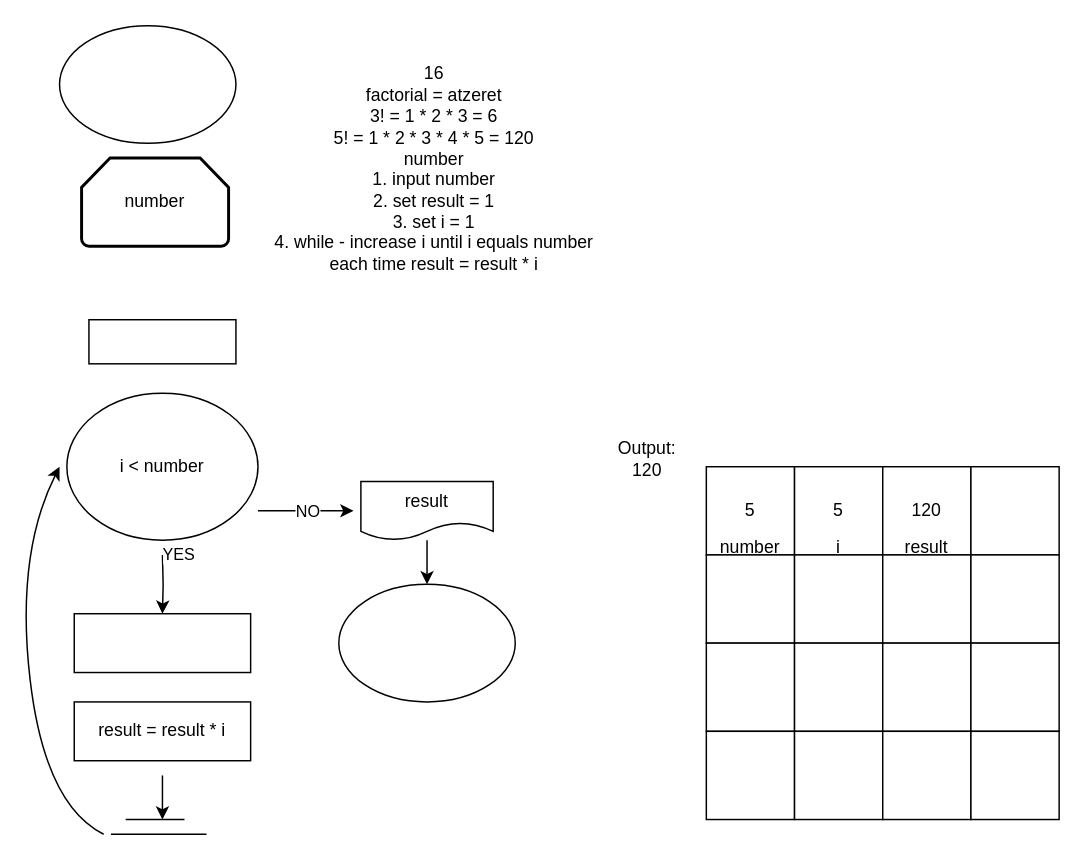
Image size: 1085x861. Some labels were removed from this diagram. The box of each missing label's shape, as (x1, y1, x2, y2) in pixels:
END: (337, 583, 515, 702)
i += 1: (73, 612, 251, 673)
i=1 result = 1: (87, 318, 236, 364)
START: (58, 24, 236, 143)
